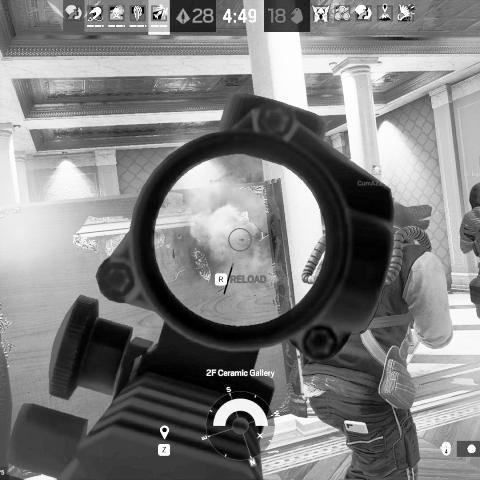Character: (297, 197, 455, 480), (456, 180, 480, 324)
Friend_label: (358, 161, 396, 188), (465, 156, 480, 179)
Head: (392, 199, 431, 236), (467, 180, 480, 210)
